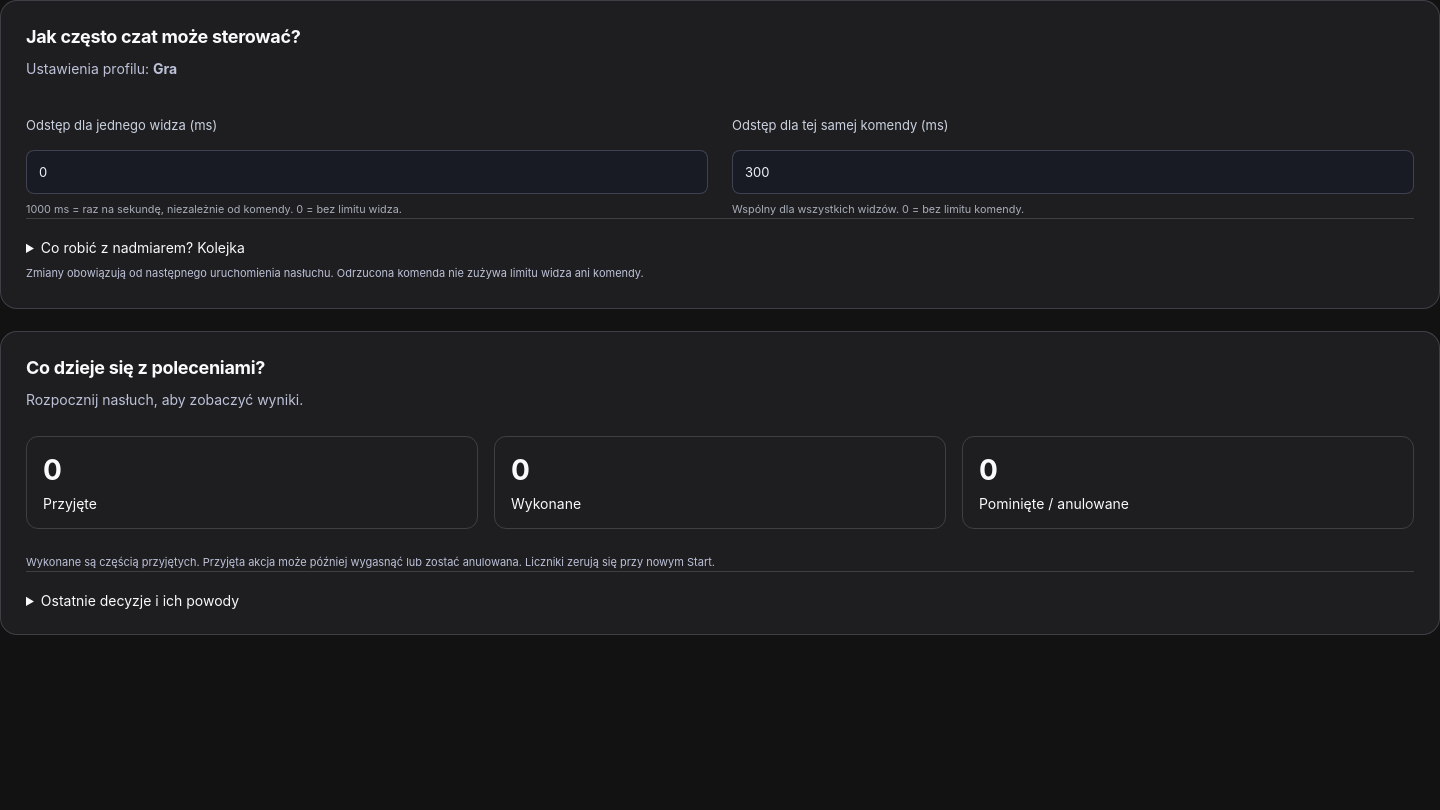
edits profile limits and keeps an invalid draft visible
The image size is (1440, 810).
Replace the text in the number field labelled "Odstęp dla jednego widza (ms)" with "1000" at (367, 172), box [26,150,708,194]
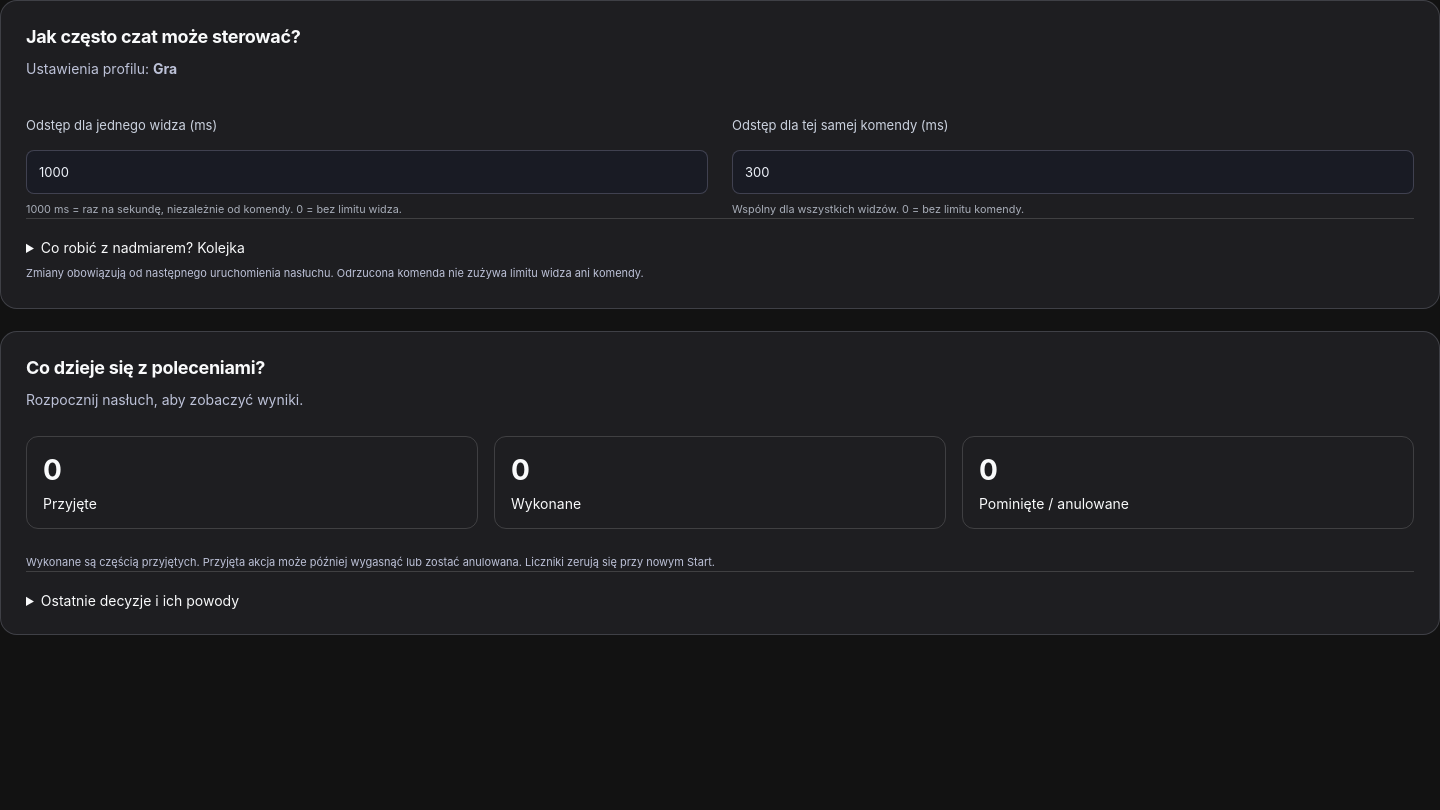
Clear the number field labelled "Odstęp dla jednego widza (ms)" at (367, 172), box [26,150,708,194]
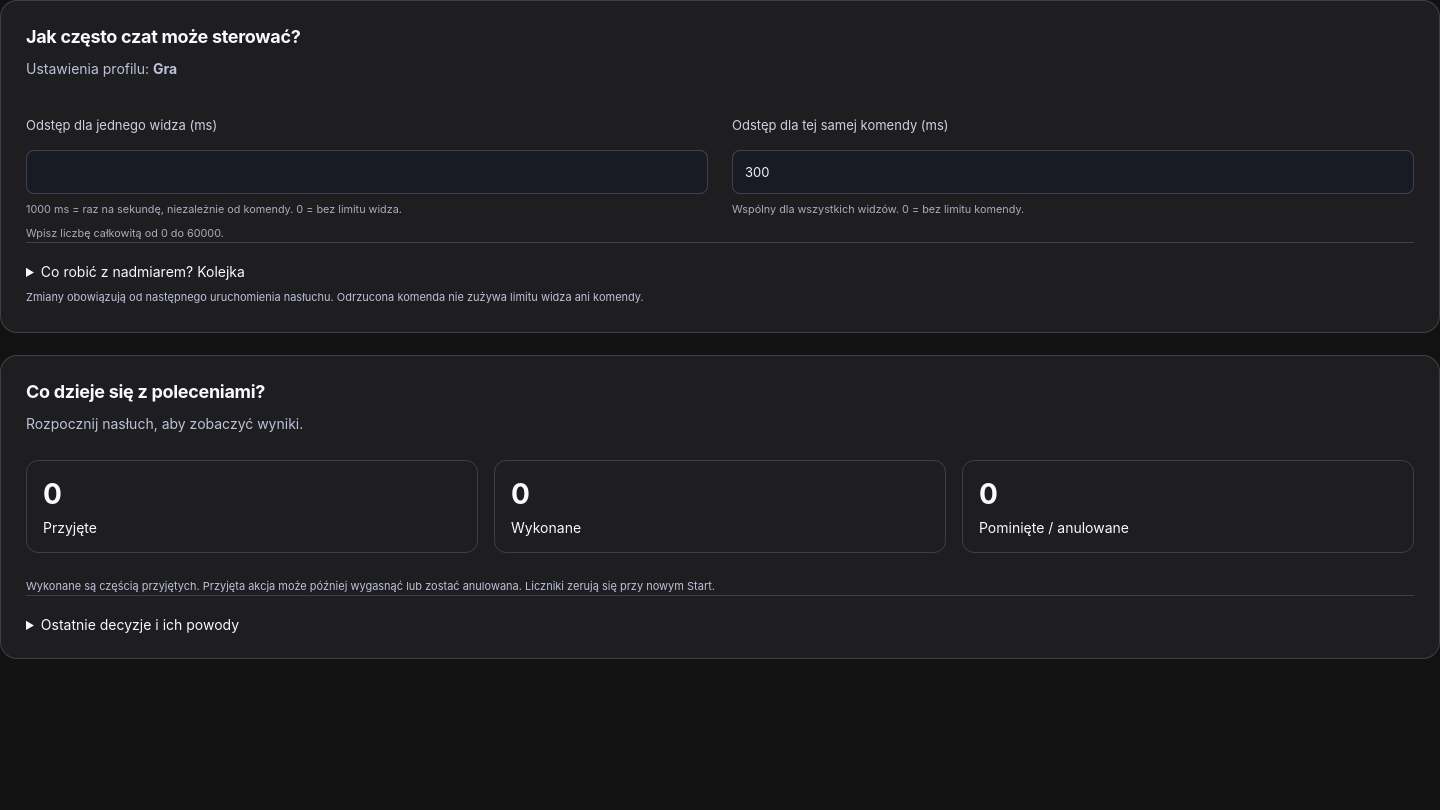
Check: the message shows "od 0 do 60000", box [26,227,224,240]
Click the heading "Co robić z nadmiarem? Kolejka" at (143, 272), box [41,263,245,280]
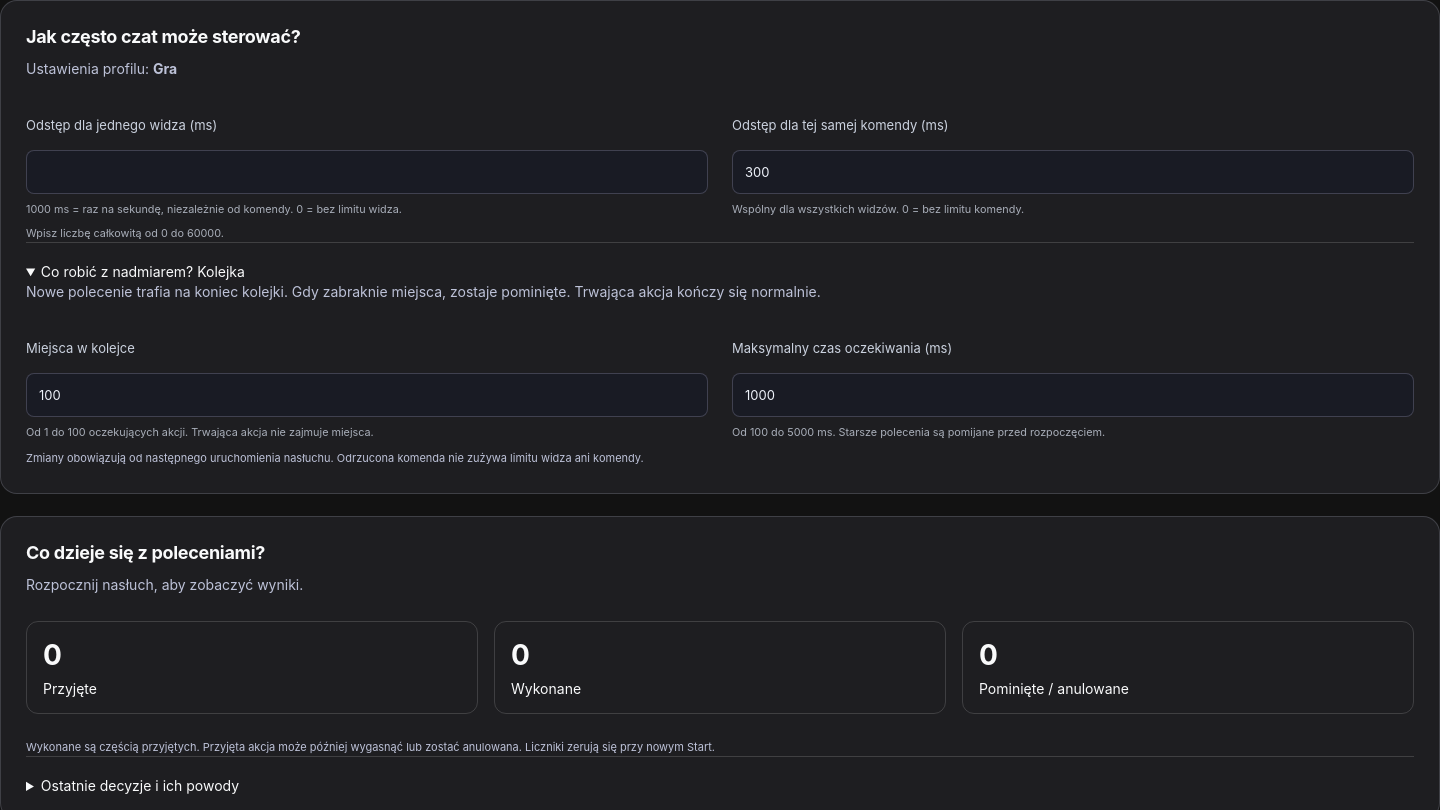
Check: the number field labelled "Miejsca w kolejce" holds "100", box [26,373,708,417]
